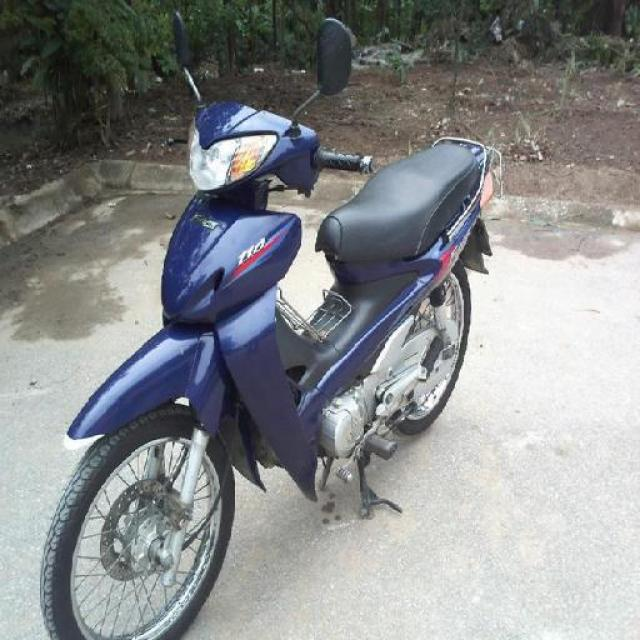All: (40, 96, 508, 640)
Head: (164, 102, 371, 198)
Tail: (431, 126, 503, 198)
